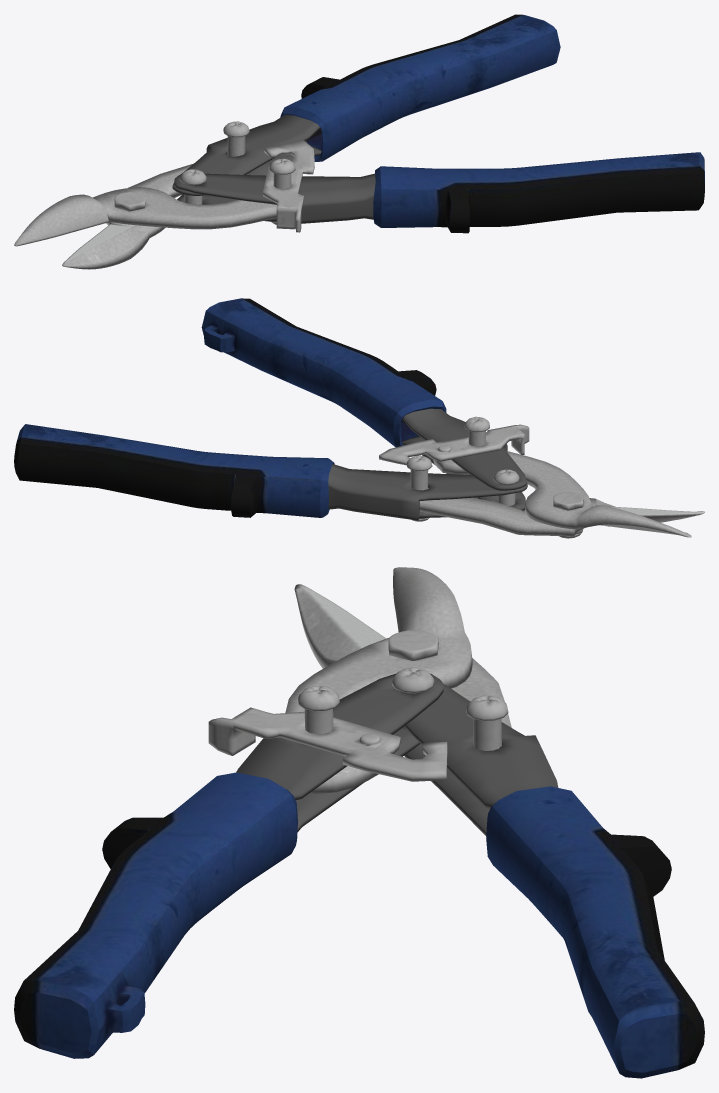
Rendered from horticultural_scissors.fbx.
3 renders of one model, top to bottom at view 1: azimuth 30°, elevation 25°; view 2: azimuth 150°, elevation 25°; view 3: azimuth 270°, elevation 25°, orthographic. The views are drawn at different scales.
Parts seen in each view (by area): view 1: HorticulturalScissorsHandle, HorticulturalScissorsBlade, HorticulturalScissorsHilt; view 2: HorticulturalScissorsHandle, HorticulturalScissorsBlade, HorticulturalScissorsHilt; view 3: HorticulturalScissorsHandle, HorticulturalScissorsBlade, HorticulturalScissorsHilt.
Part boxes in pixels (bbox=[...]): HorticulturalScissorsHandle: bbox=[280, 14, 704, 233]; HorticulturalScissorsBlade: bbox=[14, 121, 314, 269]; HorticulturalScissorsHilt: bbox=[172, 115, 375, 223]; HorticulturalScissorsHandle: bbox=[14, 298, 446, 517]; HorticulturalScissorsBlade: bbox=[379, 416, 704, 538]; HorticulturalScissorsHilt: bbox=[328, 408, 527, 520]; HorticulturalScissorsHandle: bbox=[14, 772, 704, 1078]; HorticulturalScissorsBlade: bbox=[208, 567, 511, 793]; HorticulturalScissorsHilt: bbox=[236, 673, 558, 836].
Size of what is drawn, in the model's own units: 23.65 by 14.37 by 2.53.
